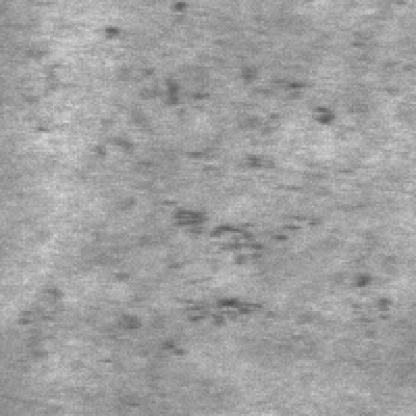rolled-in_scale: (87, 70, 339, 171), (114, 206, 292, 333)
